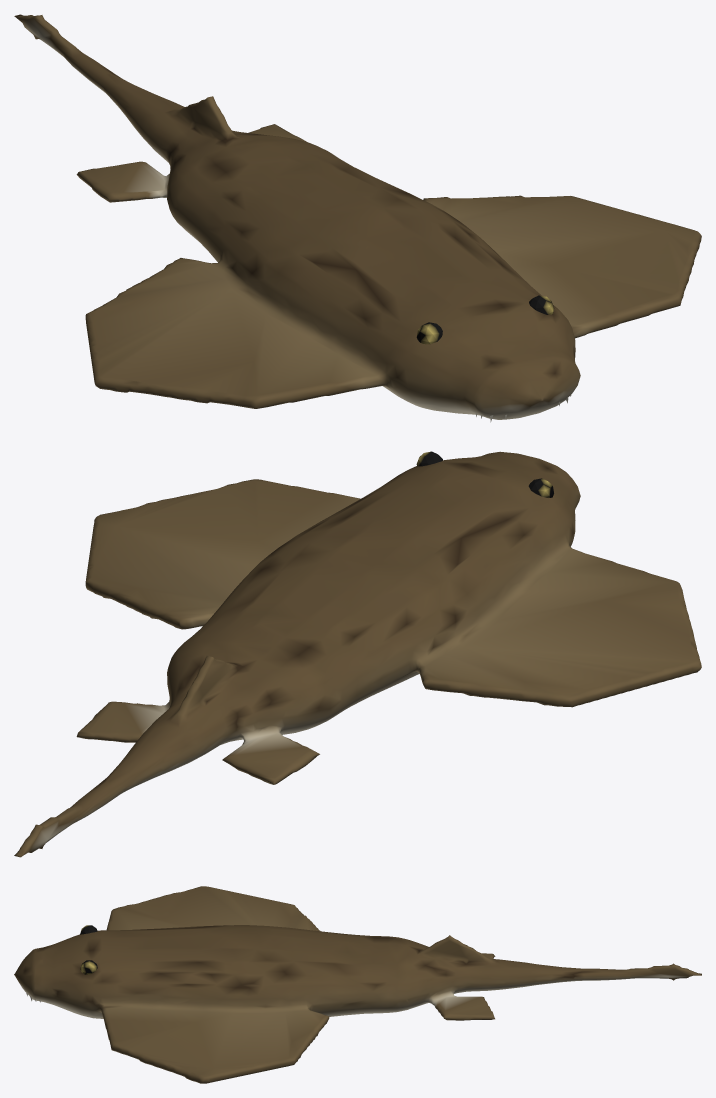
The model's file is Janassa.fbx.
3 views of the same model, one above another, from view 1: azimuth 30°, elevation 25°; view 2: azimuth 150°, elevation 25°; view 3: azimuth 270°, elevation 25° (orthographic). The views are drawn at different scales.
Parts seen in each view (by area): view 1: Janassa; view 2: Janassa; view 3: Janassa.
Boxes of the visible parts, x1,y1,x2,y2 form: Janassa: (14, 14, 701, 422); Janassa: (14, 451, 701, 857); Janassa: (14, 886, 701, 1083).
Bounding box in the file's own units: 0.7995 × 0.1389 × 1.2.
